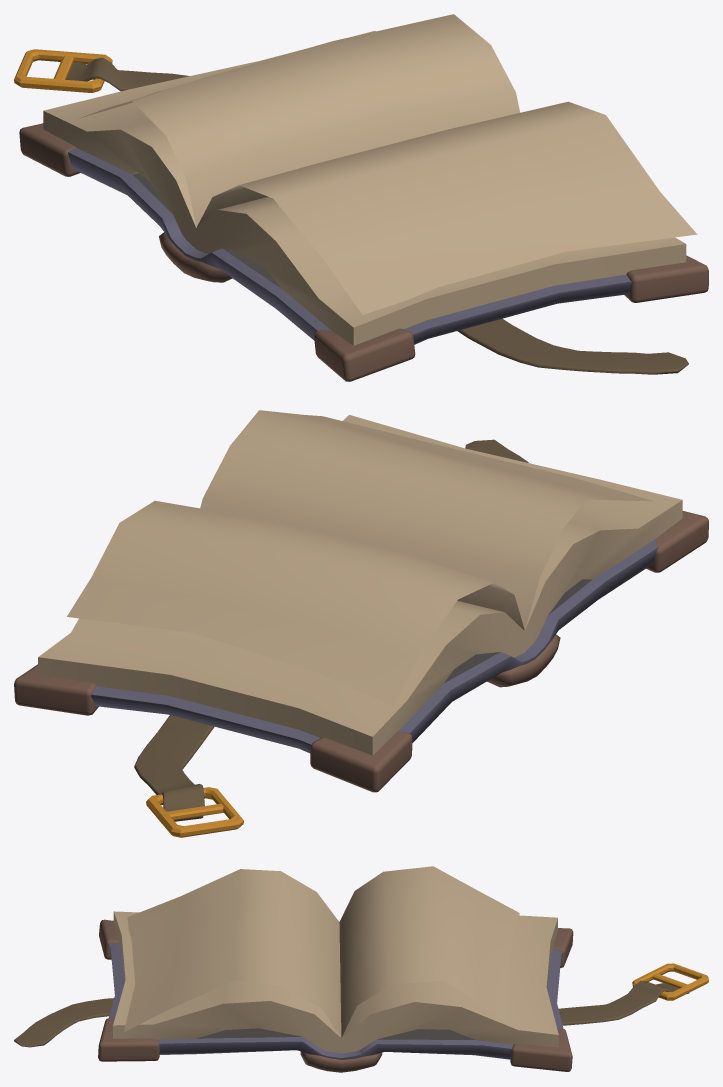
Rendered from P_Book_02_LD.fbx.
3 views of the same model, one above another, from view 1: azimuth 30°, elevation 25°; view 2: azimuth 150°, elevation 25°; view 3: azimuth 270°, elevation 25° (orthographic). The views are drawn at different scales.
Visible parts, largest first — view 1: P_Book_02; view 2: P_Book_02; view 3: P_Book_02.
Boxes of the visible parts, box(x1,y1,x2,y2) form: P_Book_02: box(14, 14, 708, 381); P_Book_02: box(14, 410, 708, 837); P_Book_02: box(14, 866, 708, 1072).
Bounding box in the file's own units: 23.95 × 8.29 × 54.34.
